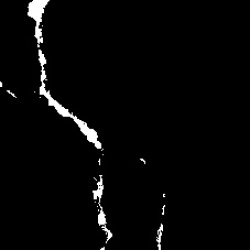crack: (27, 1, 115, 247), (155, 192, 168, 247)
pinhole: (138, 153, 147, 166)
